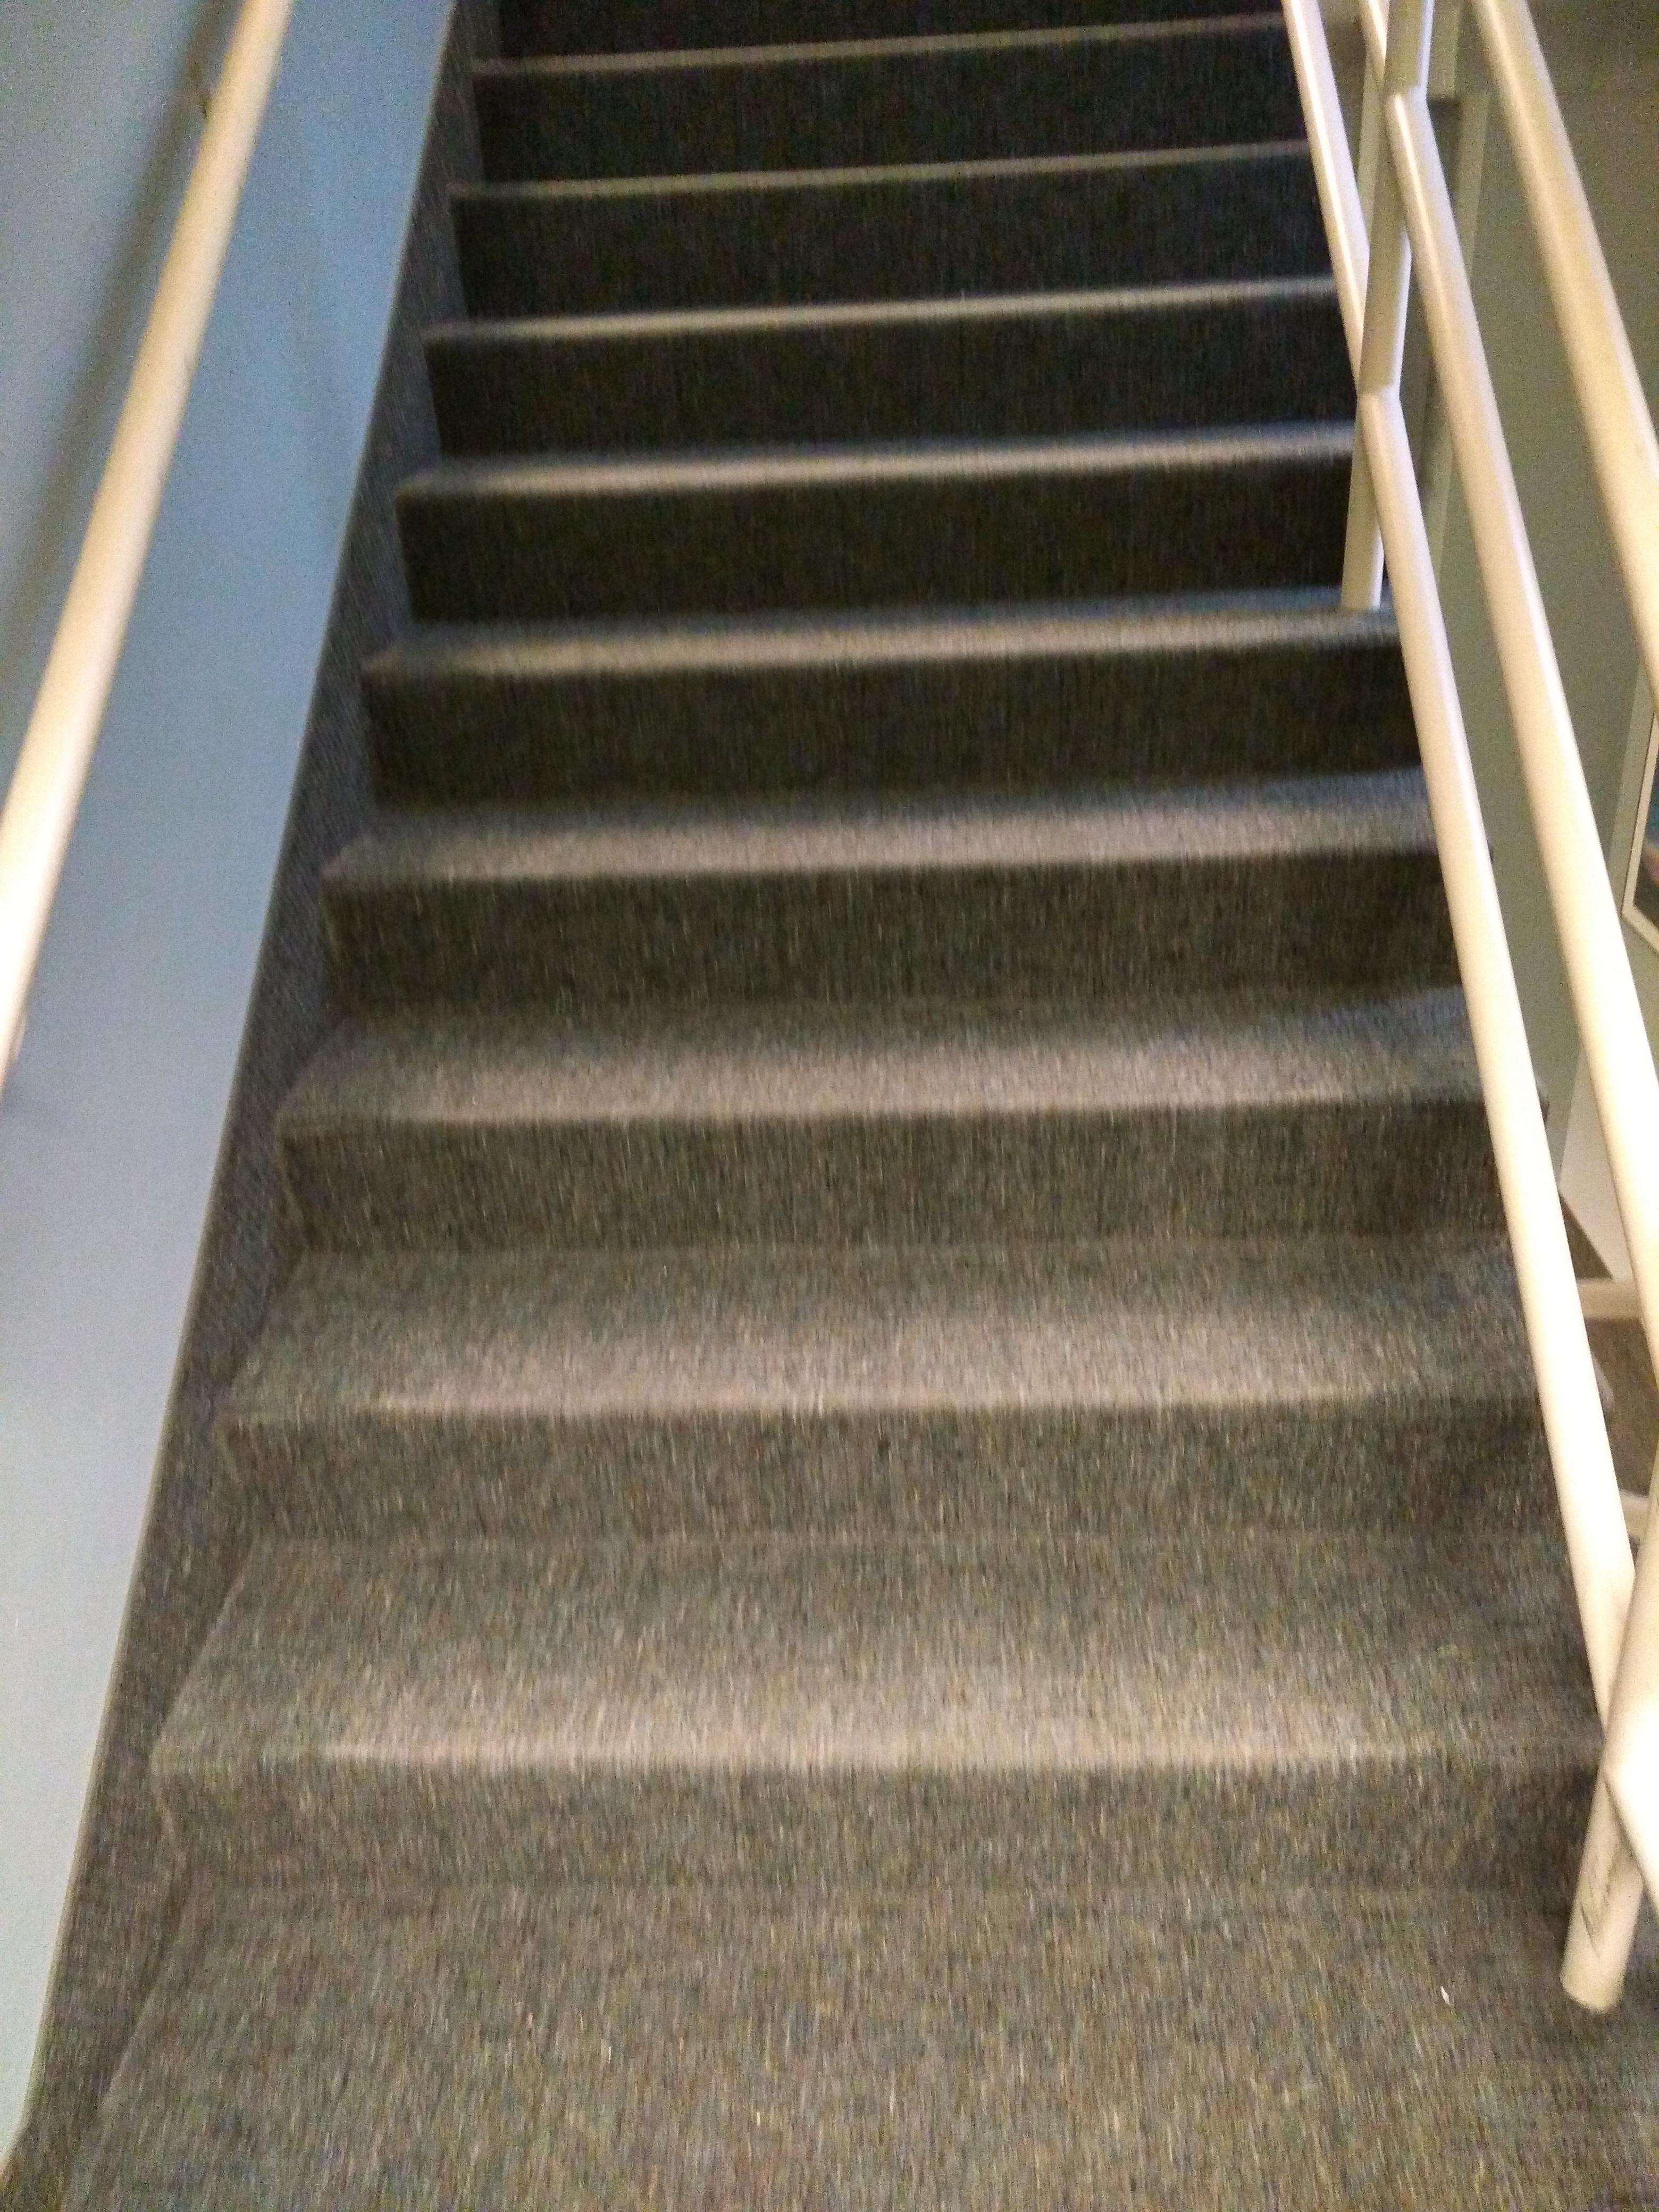stairs_up: (200, 0, 1593, 1952)
